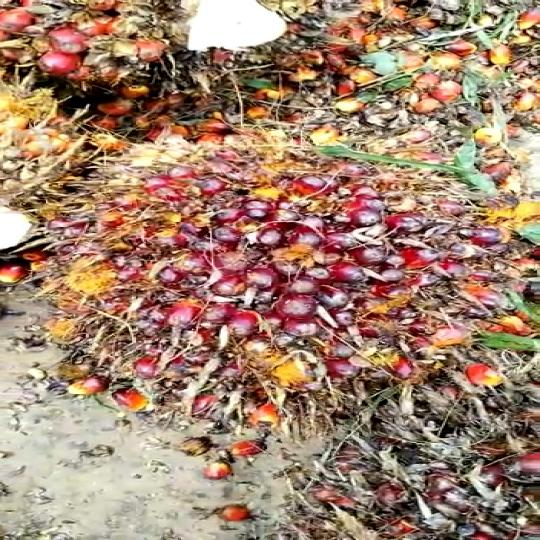masak: (59, 120, 540, 422), (0, 4, 540, 124)
